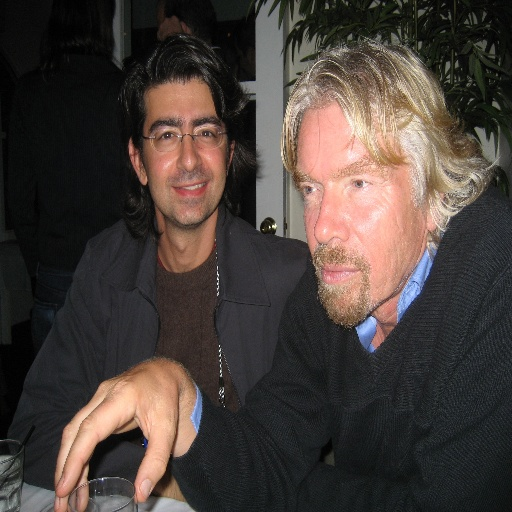hand: (54, 362, 201, 497)
